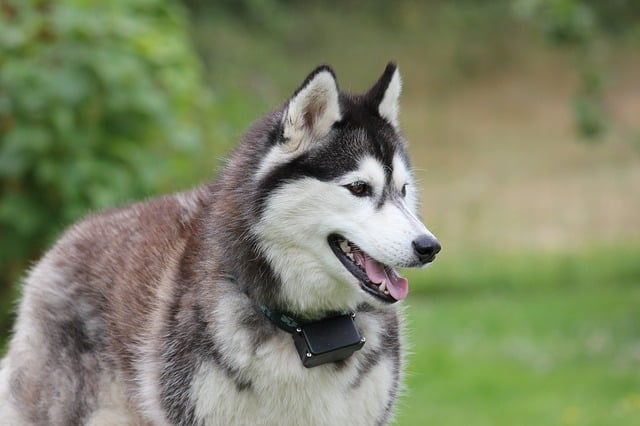husky: (44, 46, 443, 425)
